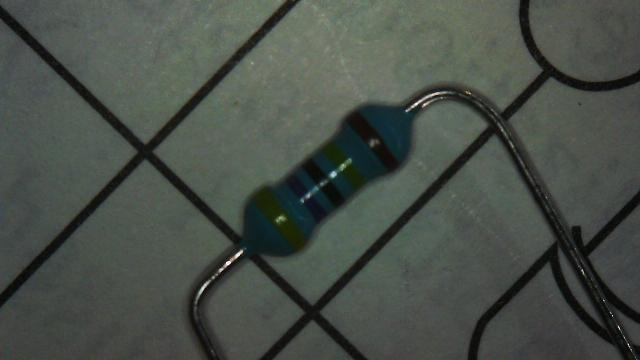black: (302, 157, 345, 207)
brown: (346, 111, 398, 170)
resistor: (232, 93, 417, 265)
violet: (286, 174, 327, 221)
yellow: (253, 187, 306, 250), (322, 140, 366, 190)
